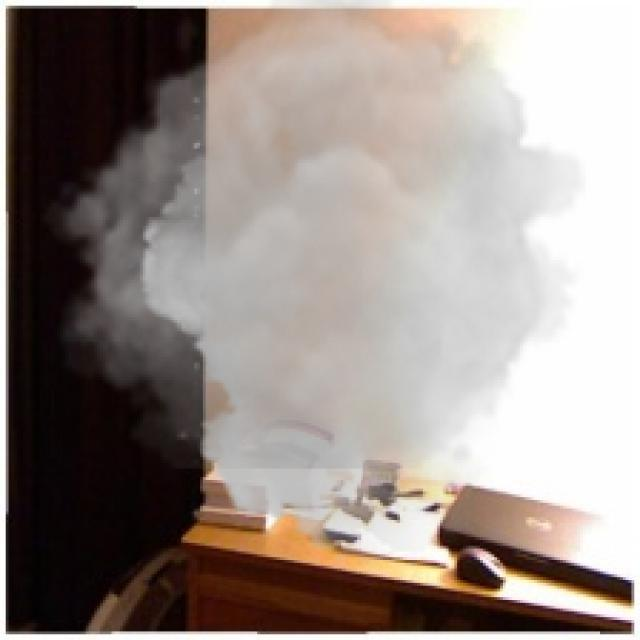Smoke: (40, 0, 586, 563)
